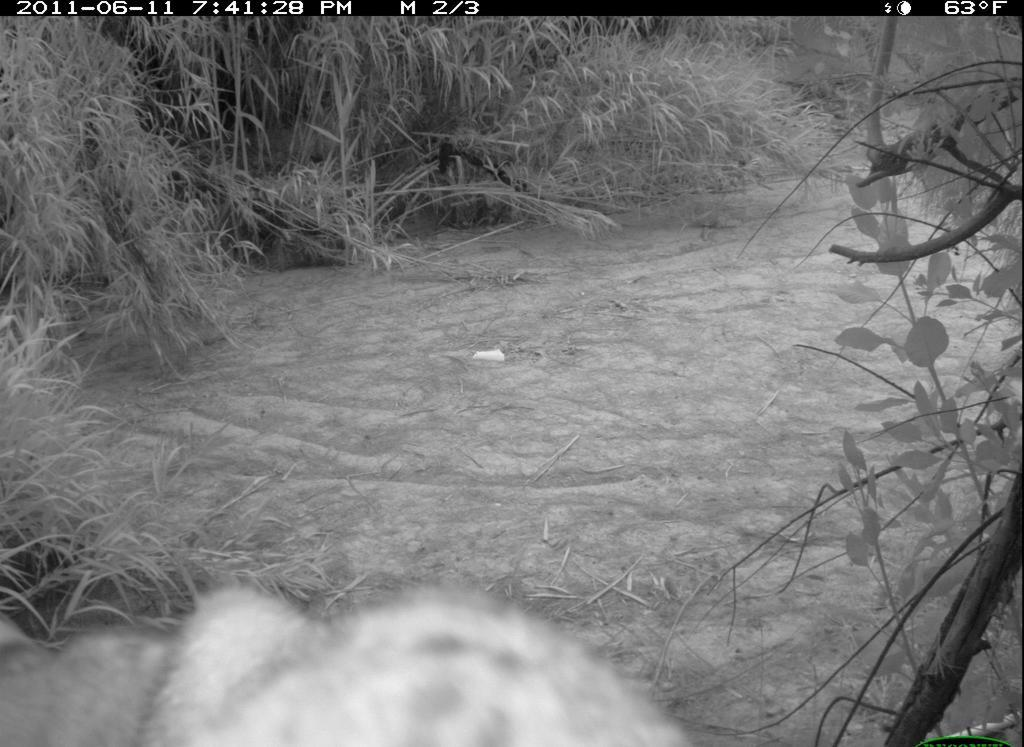bobcat: (3, 553, 708, 745)
